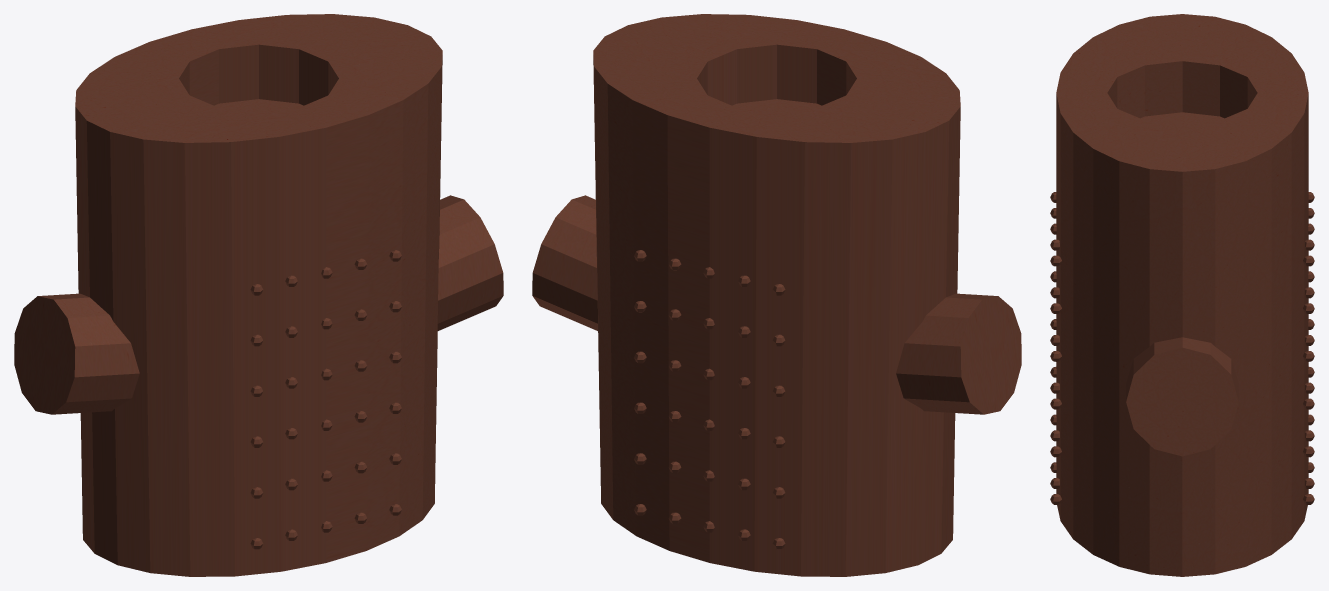
File: studded_leather.fbx
The picture shows the model from 3 angles, left to right: view 1: azimuth 30°, elevation 25°; view 2: azimuth 150°, elevation 25°; view 3: azimuth 270°, elevation 25°; orthographic projection. The views are drawn at different scales.
Parts seen in each view (by area): view 1: studded_leather; view 2: studded_leather; view 3: studded_leather.
Part boxes in pixels (x1,y1,x2,y2): studded_leather: [14, 14, 503, 576]; studded_leather: [532, 14, 1021, 576]; studded_leather: [1050, 14, 1314, 576].
Size of the model in its own units: 0.6442 by 0.6 by 0.352.
Materials: 1 (1 with a texture image).
